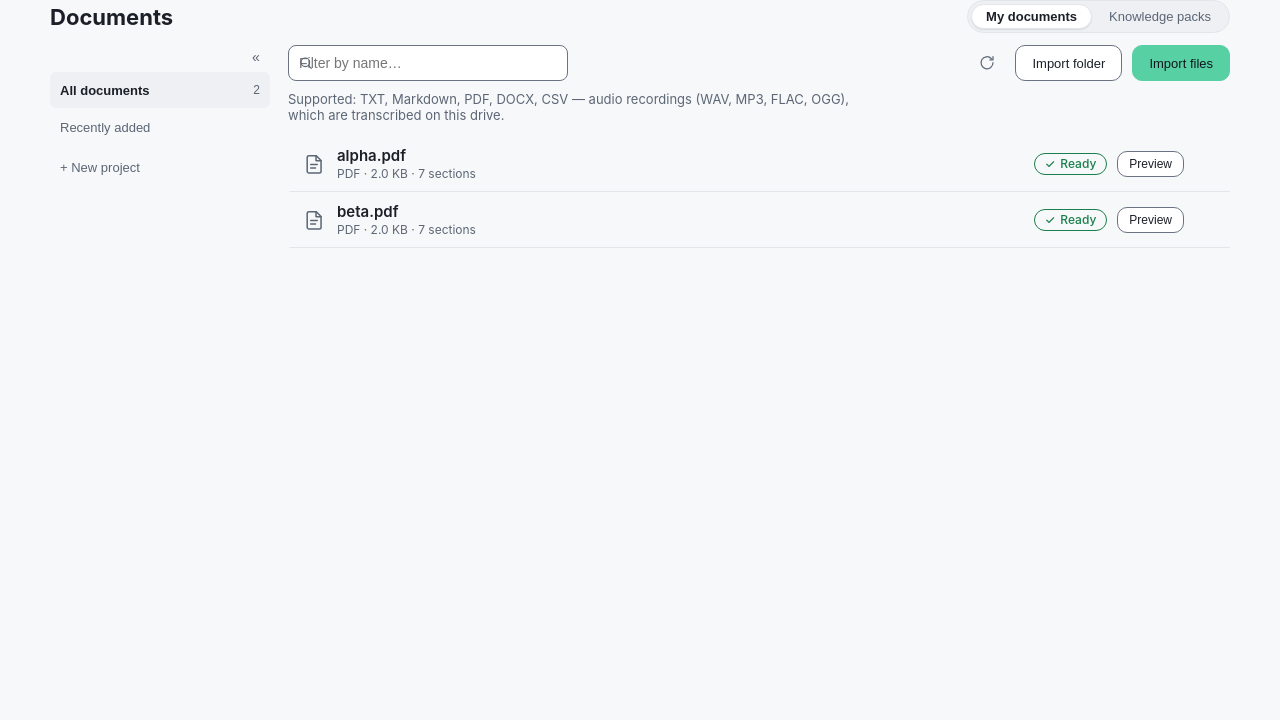
Test: DocumentsScreen — CODE-32 preview install ordering › slow-first-resolves-last: the modal shows the SECOND clicked document
This screenshot has width=1280, height=720.
Expected: the text "alpha.pdf" is shown, [337,146,406,164]
Click the button "Preview" in the row of "alpha.pdf" at (1151, 164), box [1117,150,1184,176]
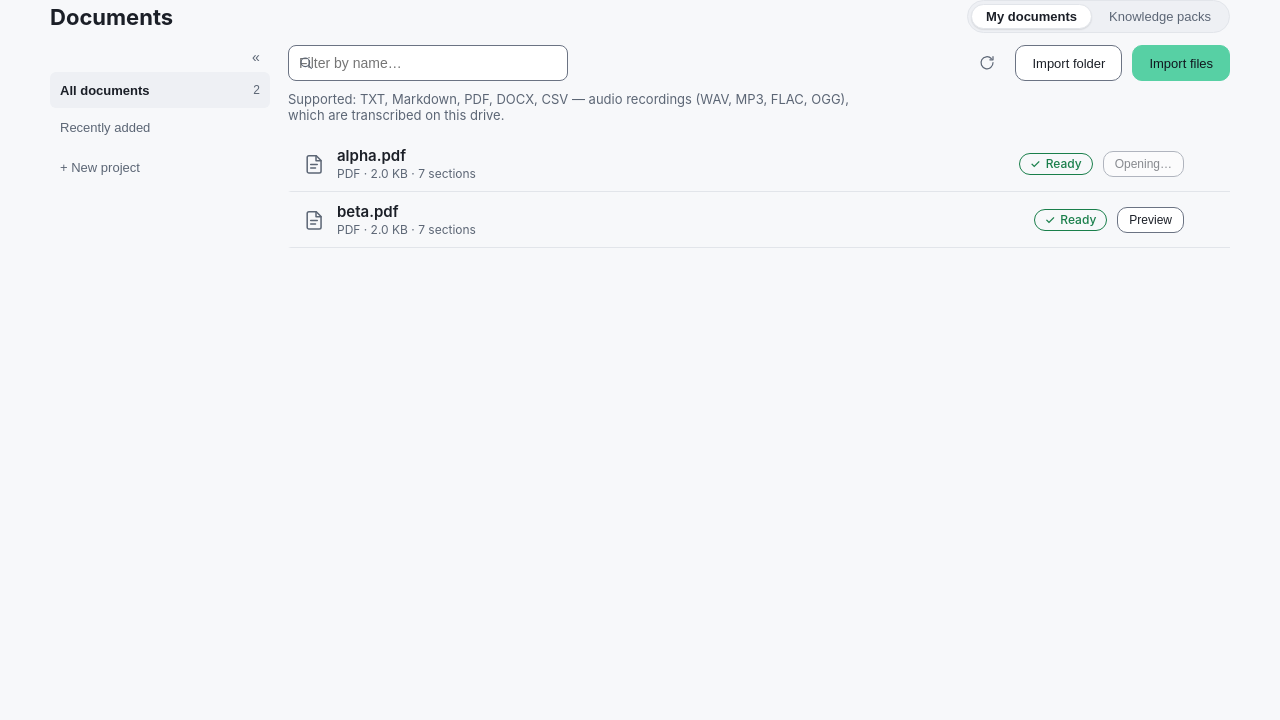
Click the button "Preview" at (1151, 220), box [1117,206,1184,232]
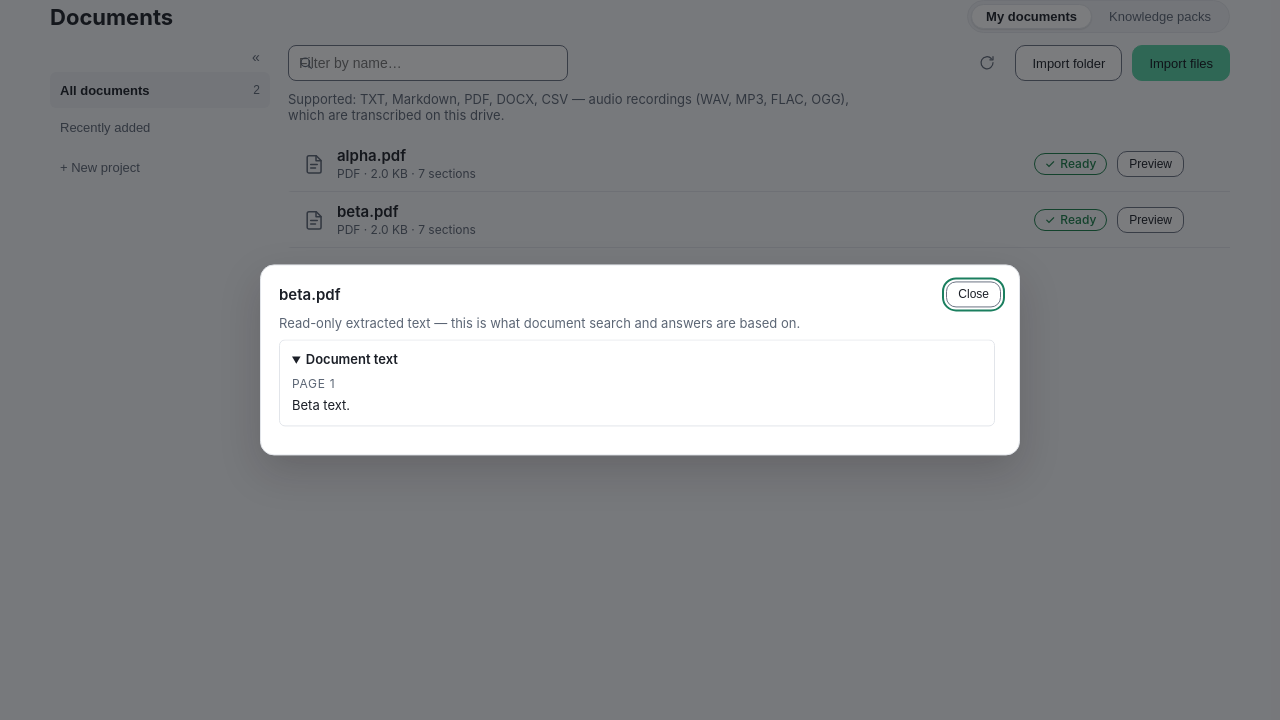
Result: the heading "beta.pdf" is shown at [279,285,340,304]
